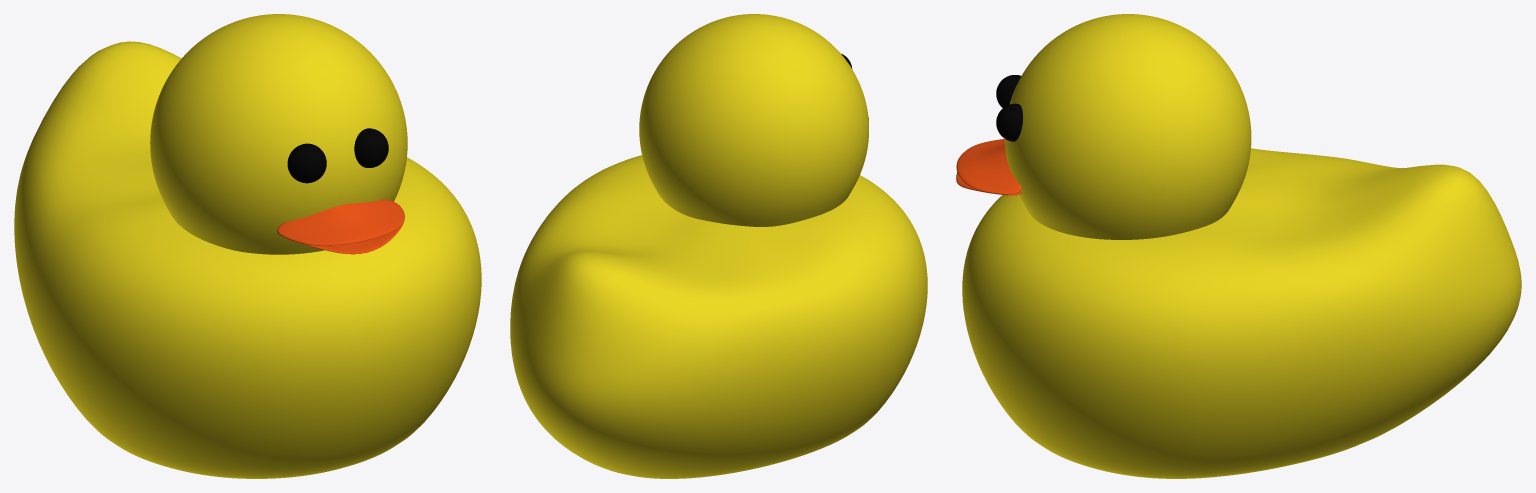
The model's file is pato.glb.
3 views of the same model, side by side, from view 1: azimuth 30°, elevation 25°; view 2: azimuth 150°, elevation 25°; view 3: azimuth 270°, elevation 25° (orthographic). The views are drawn at different scales.
Visible parts, largest first — view 1: CUERPO, CABEZA, PICO ABAJO, Ojos; view 2: CUERPO, CABEZA; view 3: CUERPO, CABEZA, PICO ABAJO, Ojos.
Boxes of the visible parts, x1=… form: CUERPO: x1=14, y1=41, x2=481, y2=478; CABEZA: x1=150, y1=14, x2=407, y2=254; PICO ABAJO: x1=277, y1=199, x2=404, y2=254; Ojos: x1=287, y1=128, x2=388, y2=183; CUERPO: x1=510, y1=155, x2=927, y2=478; CABEZA: x1=639, y1=14, x2=868, y2=226; CUERPO: x1=962, y1=148, x2=1521, y2=478; CABEZA: x1=1005, y1=14, x2=1251, y2=239; PICO ABAJO: x1=956, y1=139, x2=1021, y2=195; Ojos: x1=996, y1=75, x2=1022, y2=141.
Bounding box in the file's own units: 2.25 × 2.3 × 2.98.
